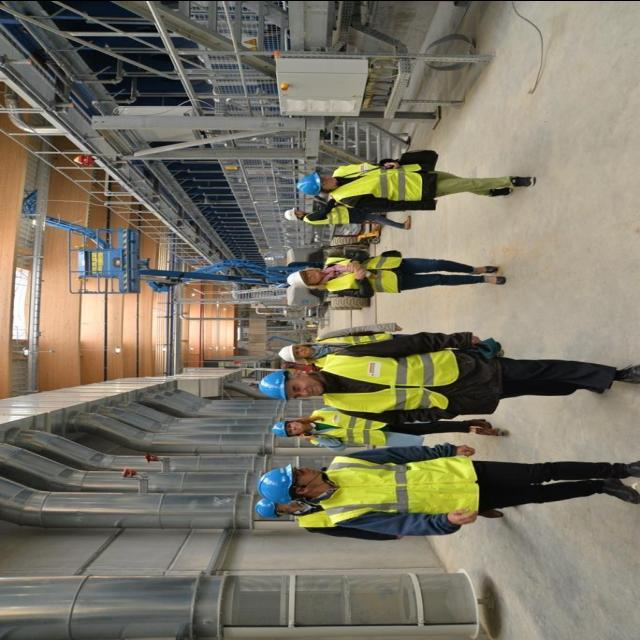helmet: (256, 459, 298, 502), (296, 168, 324, 198), (247, 498, 280, 522), (286, 264, 310, 292), (268, 419, 292, 441), (281, 204, 303, 224), (276, 344, 300, 359)
jacket: (318, 448, 486, 530), (322, 342, 462, 418), (332, 152, 424, 212), (318, 250, 411, 298), (304, 206, 352, 228)
